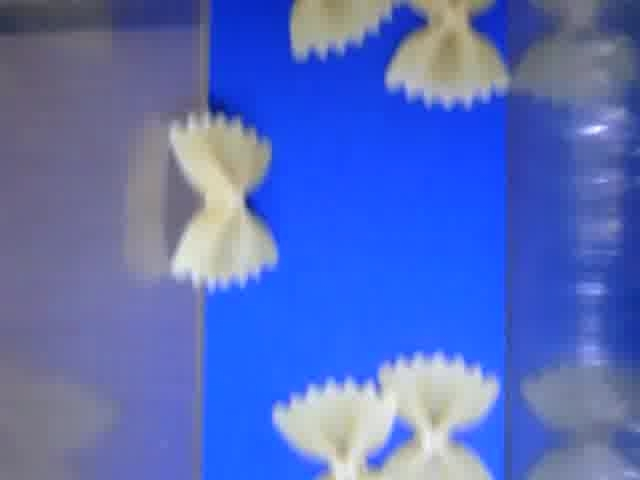farfalle: (167, 110, 282, 289), (378, 355, 499, 480), (384, 1, 509, 109), (272, 378, 398, 480), (287, 1, 395, 61)
